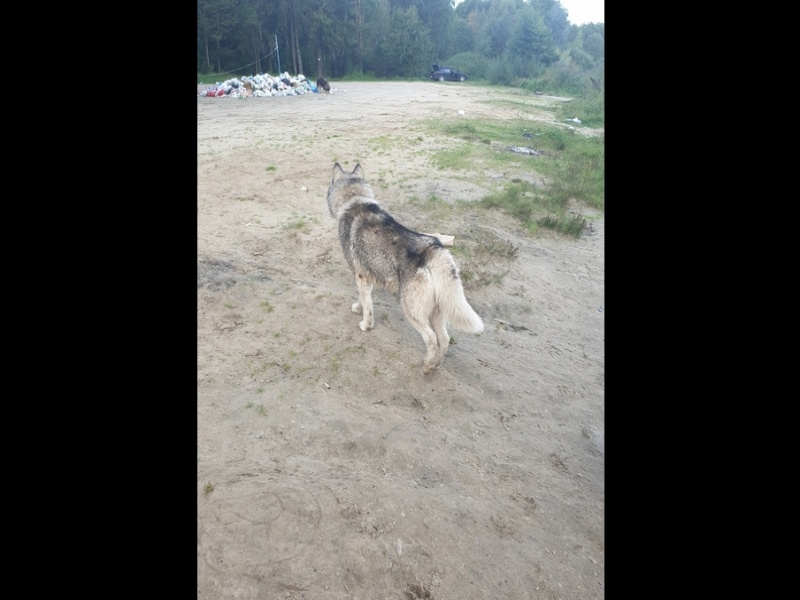dog: (326, 158, 487, 376)
